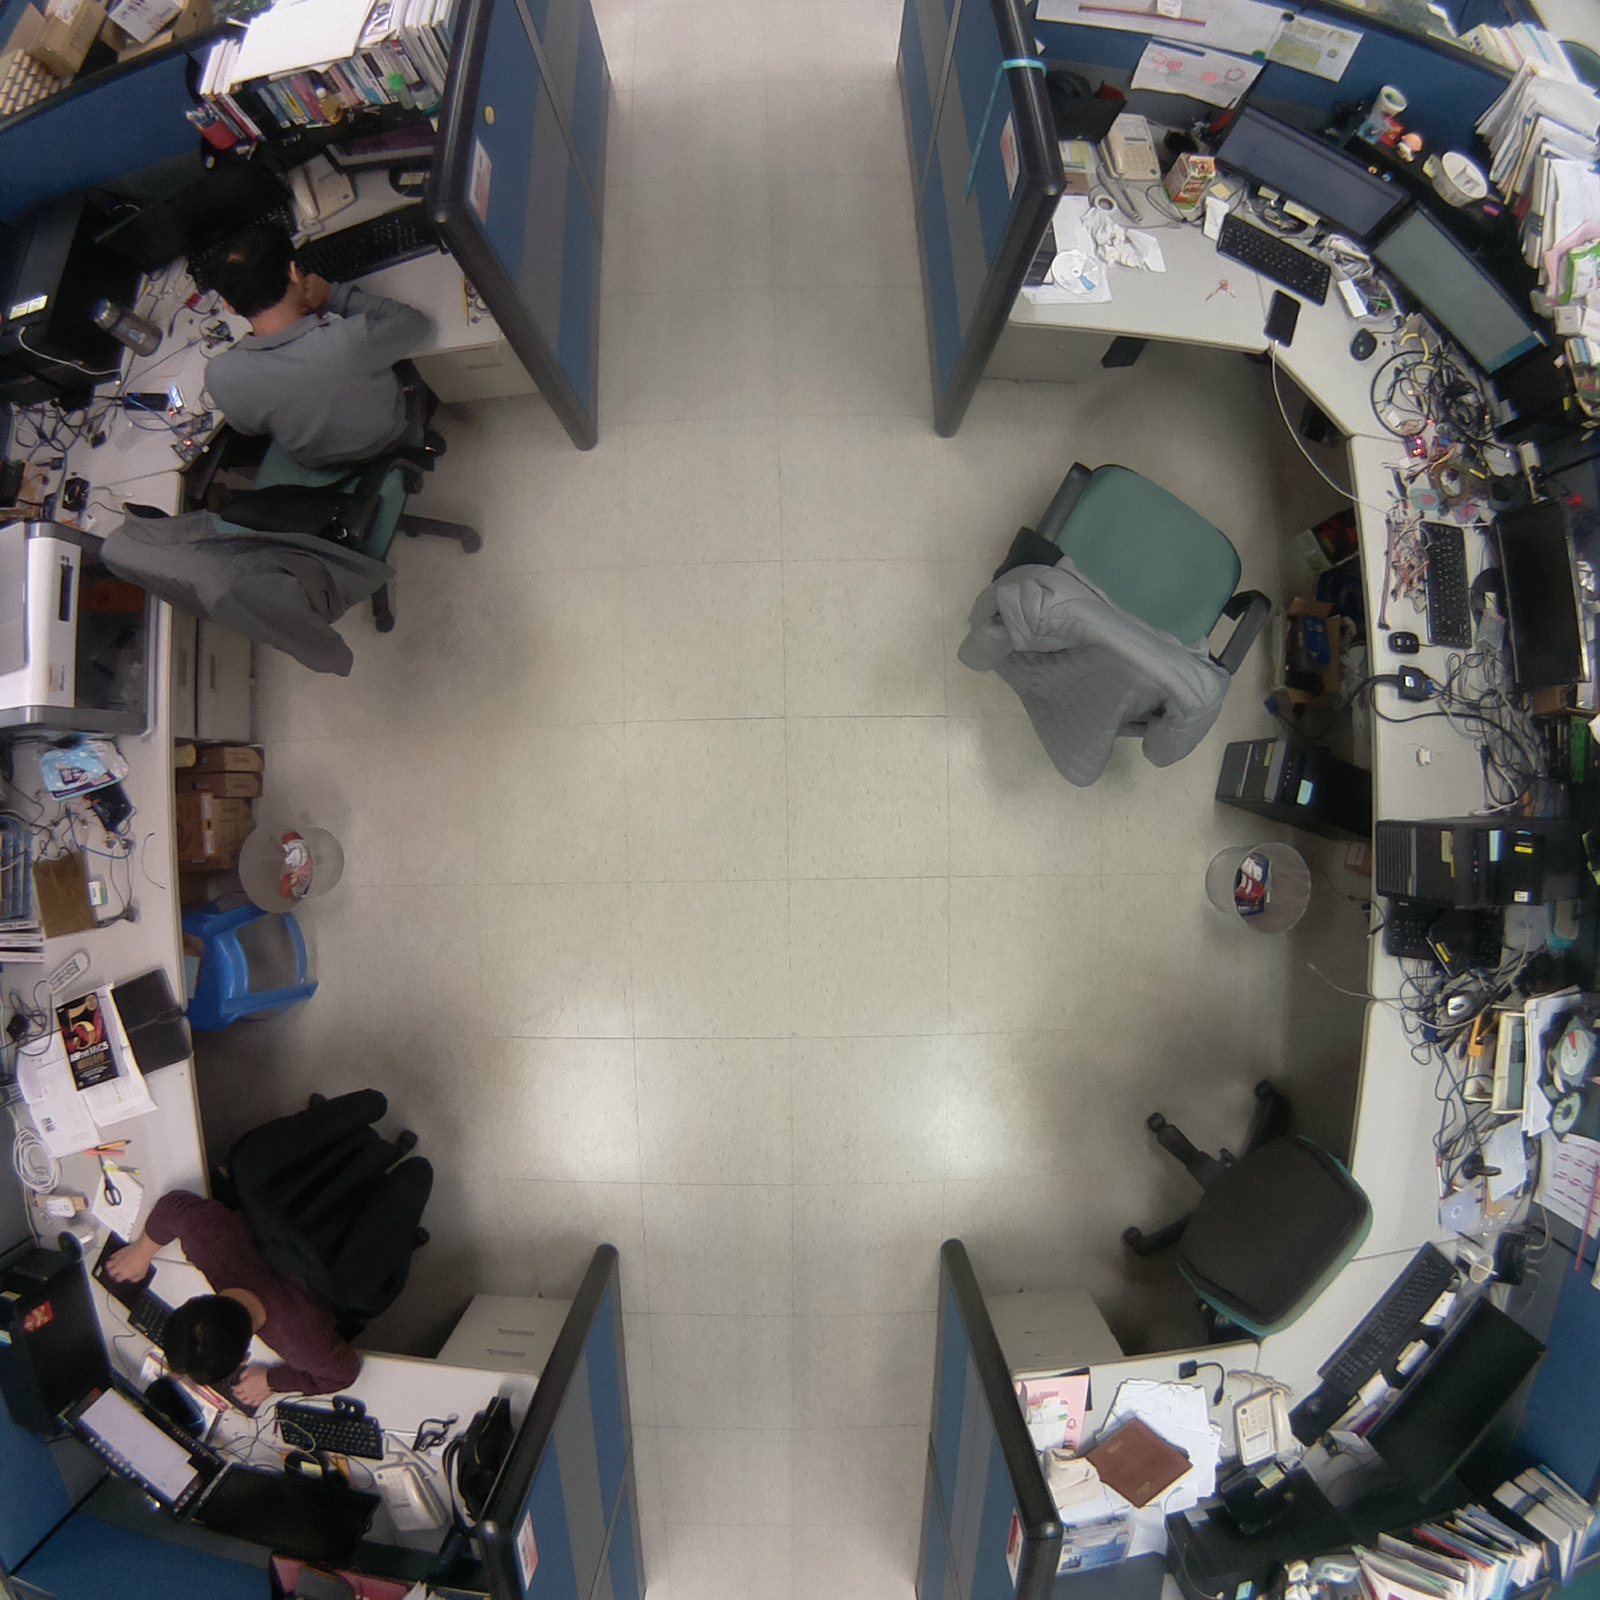chair: (947, 440, 1292, 809), (1102, 1053, 1386, 1360)
sitting: (84, 1163, 379, 1423), (182, 224, 462, 489)
